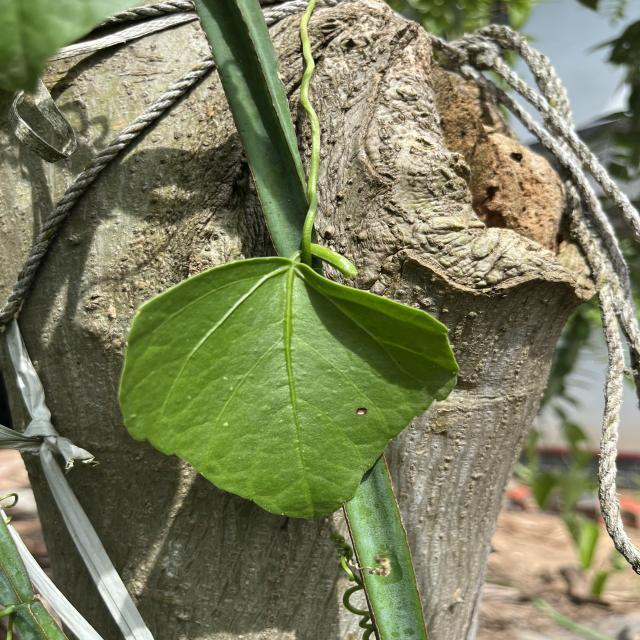Cissus quadrangularis: (115, 254, 464, 520)
